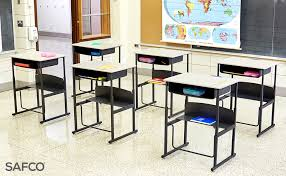desk: (163, 72, 238, 172), (70, 59, 136, 144), (217, 56, 278, 136), (135, 47, 191, 117), (10, 50, 64, 122), (72, 39, 121, 59)
